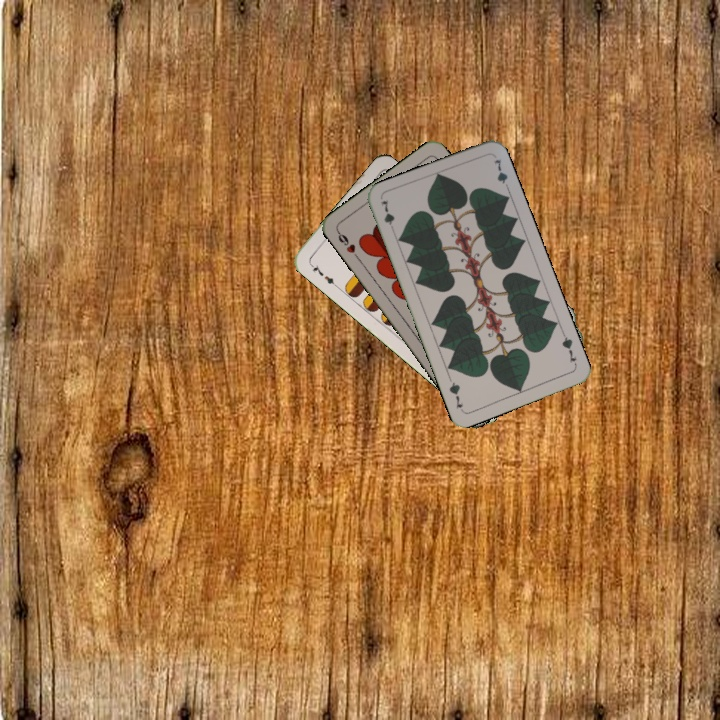E7: (306, 259, 340, 289)
G7: (377, 196, 398, 236), (558, 329, 579, 368)
H9: (333, 227, 362, 262)
